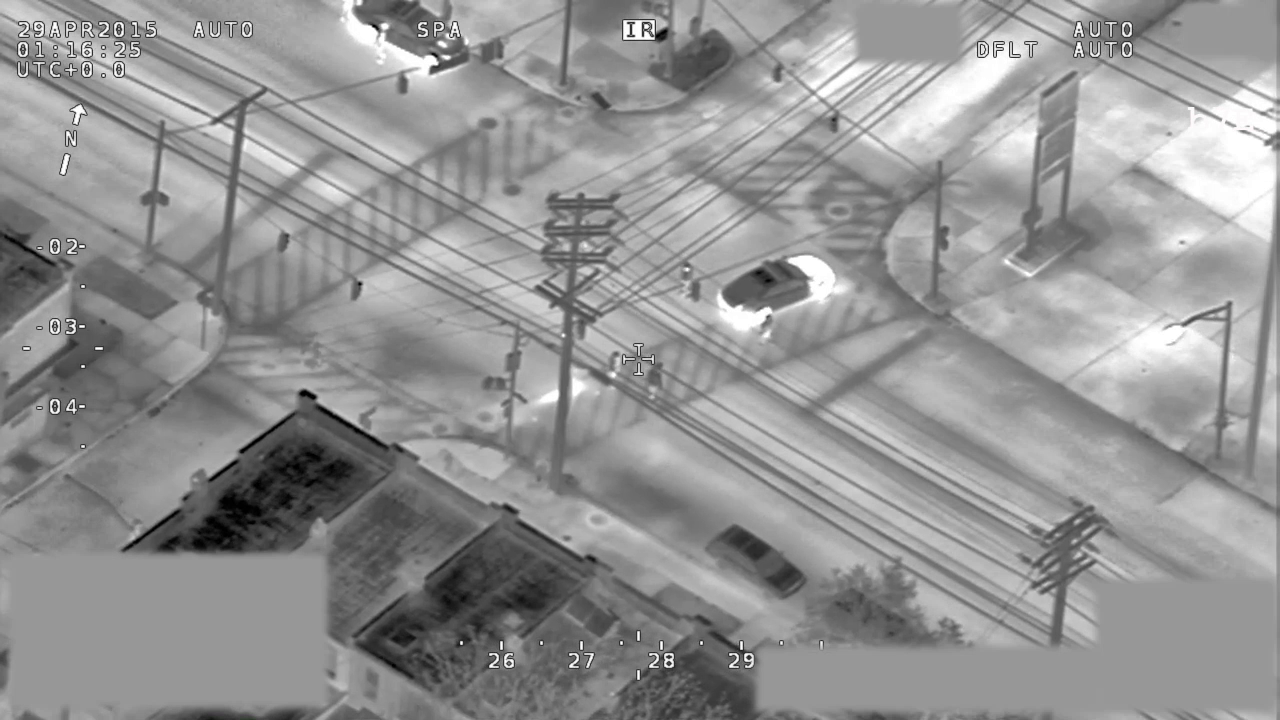vehicle: (711, 251, 839, 334), (697, 515, 812, 603), (339, 1, 471, 75)
